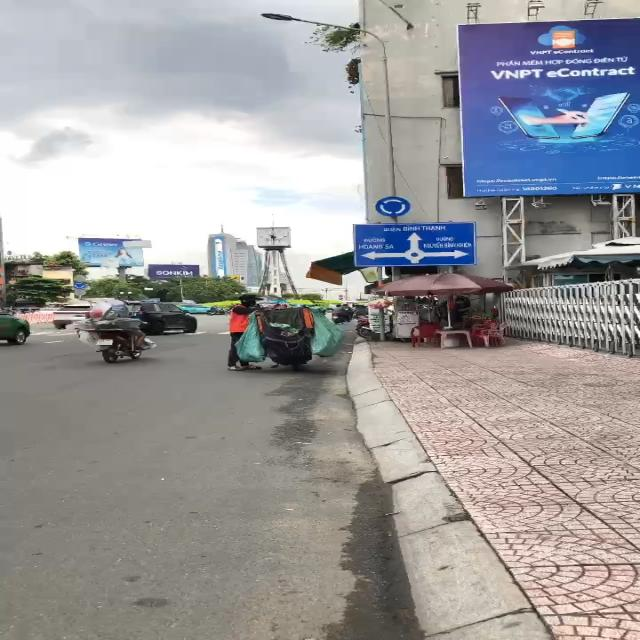Bien bao noi giao nhau chay theo vong xuyen: (373, 195, 412, 218)
